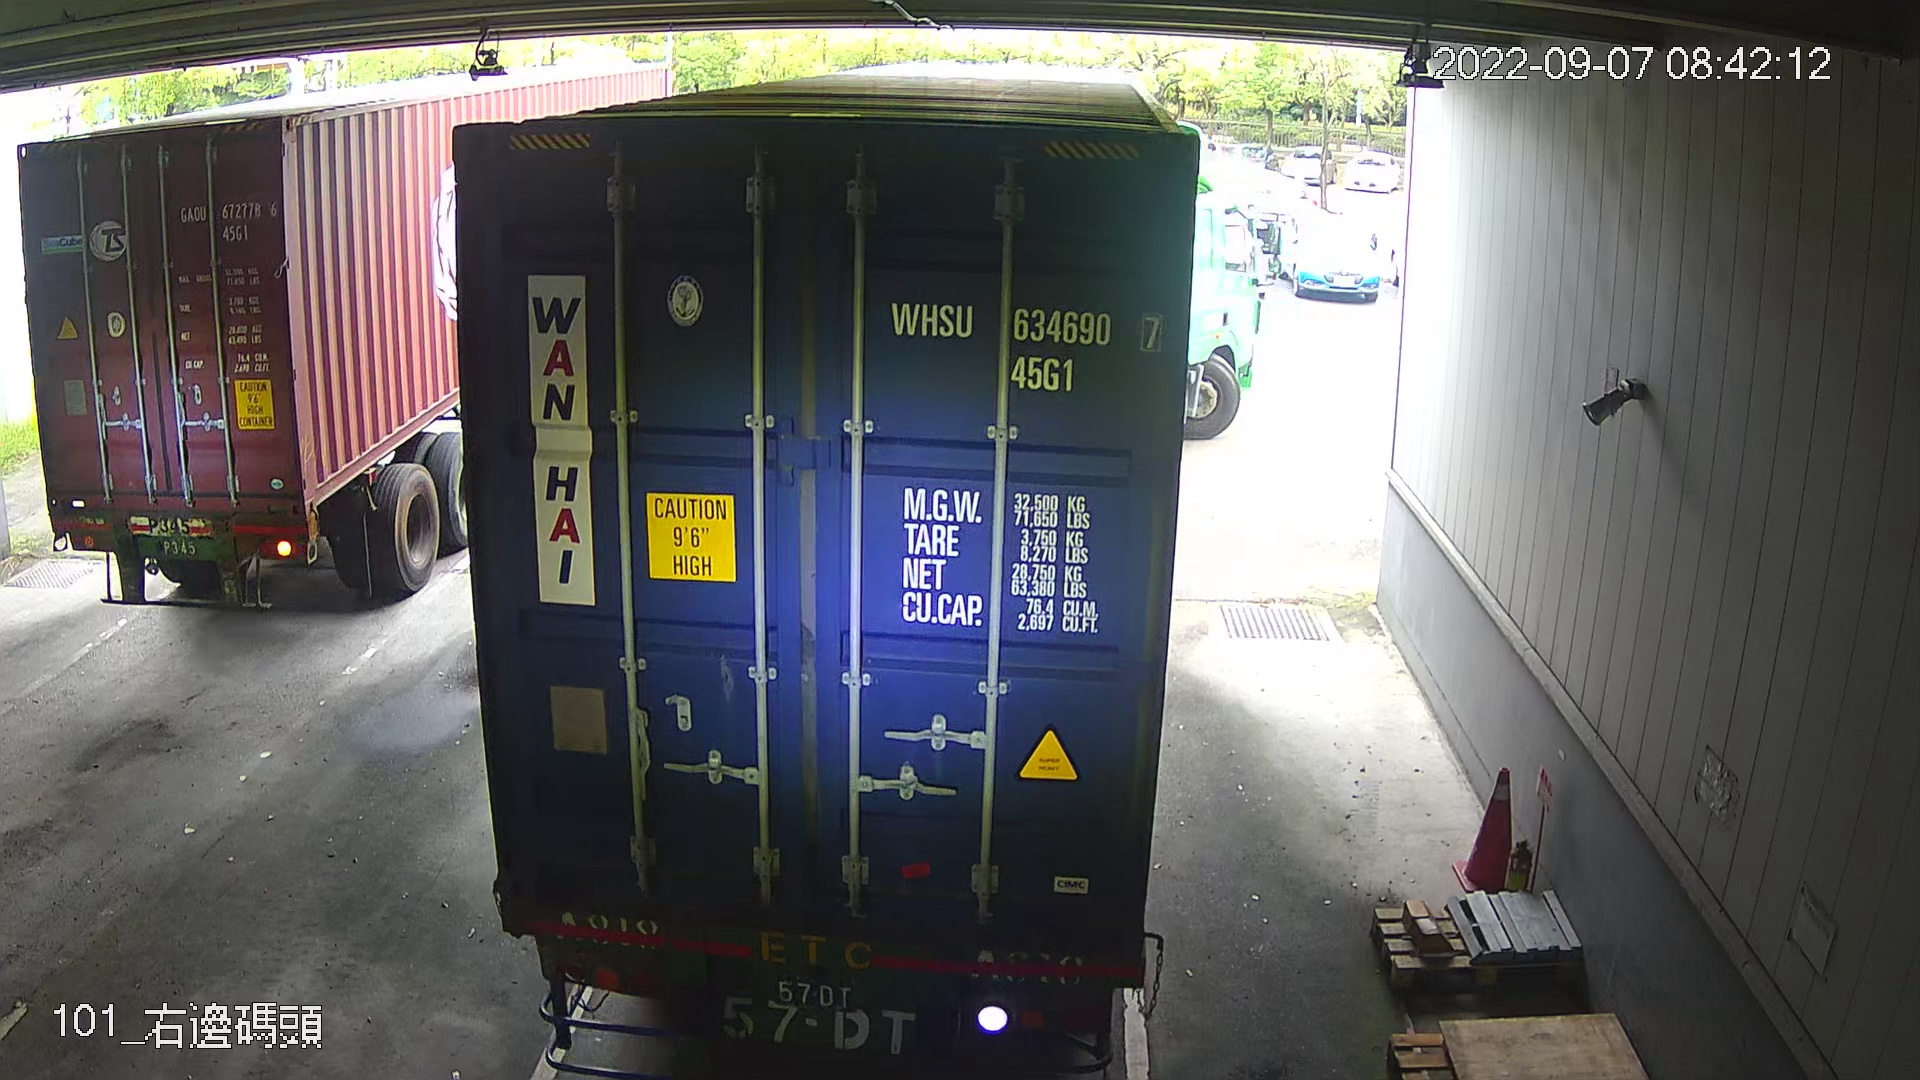container: (878, 286, 1175, 398)
